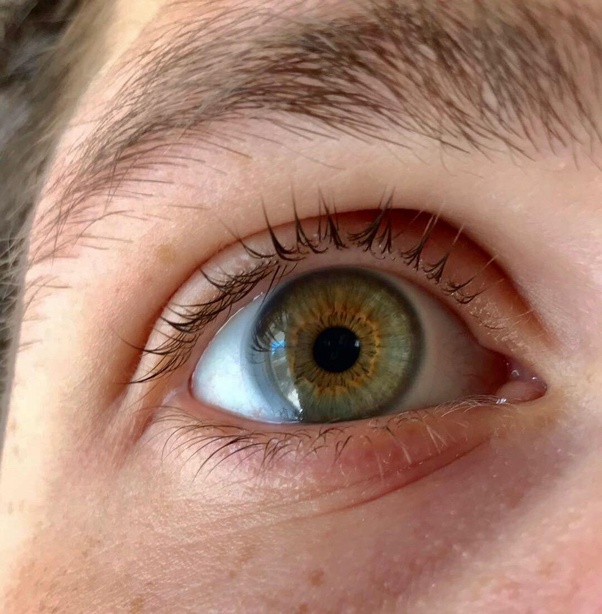iris: (244, 262, 421, 425)
pupil: (308, 328, 359, 374)
